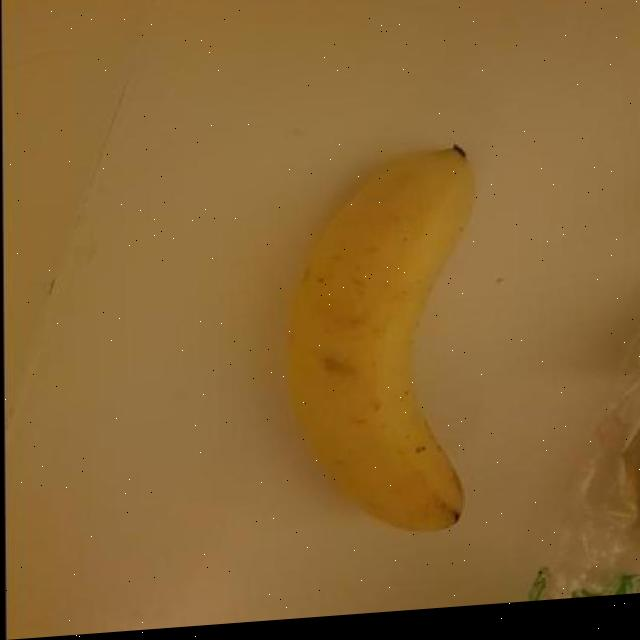banana: (259, 131, 493, 553)
